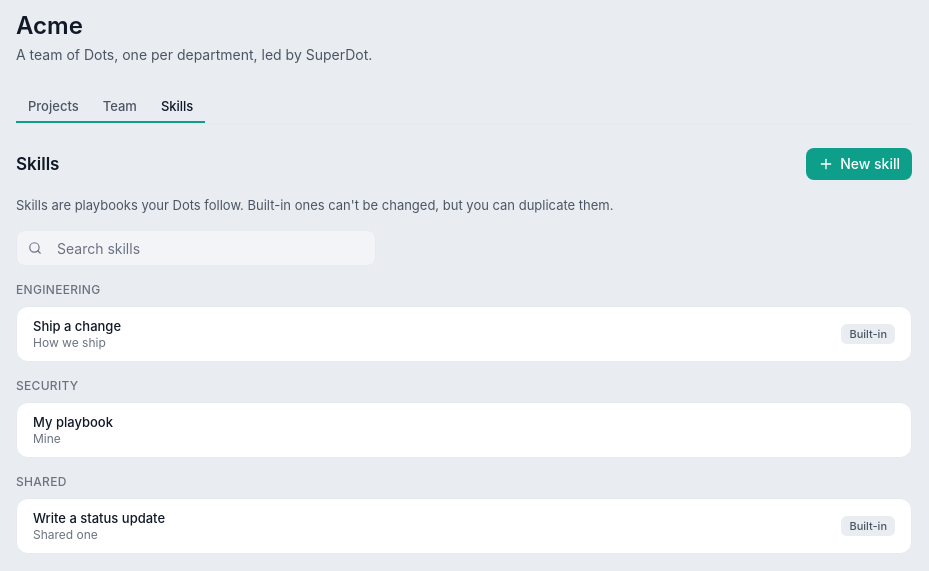
Test: skills › groups by domain, marks built-ins and searches
Expected: the element "Engineering" is shown, 16,282 -> 912,362
Expected: the element "Shared" is shown, 16,474 -> 912,554
Type "playbook" into the field labelled "Search skills" at (196, 248), box 16,230 -> 376,266
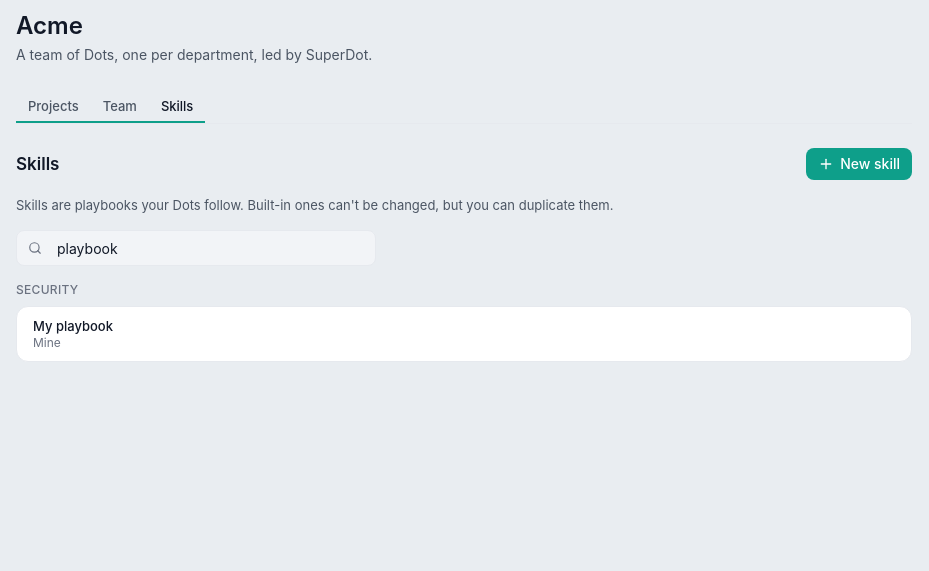
Expected: the text "My playbook" is shown, 33,318 -> 113,334
Expected: the button "Ship a change" is gone
